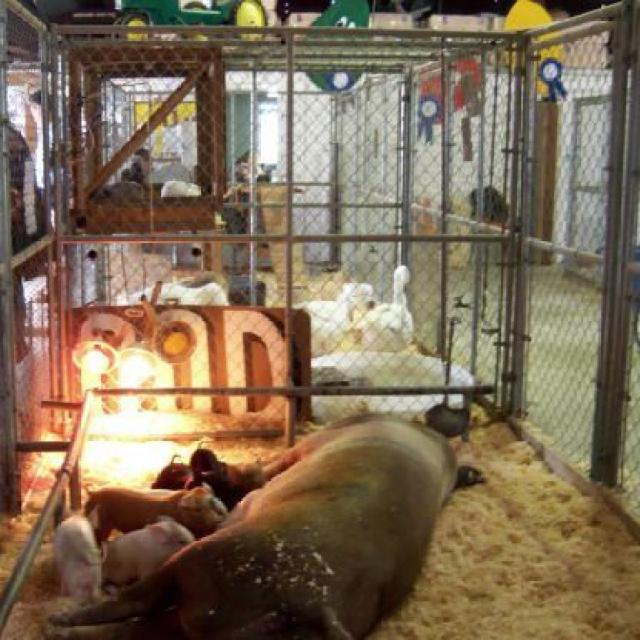Boar: (53, 401, 490, 640)
